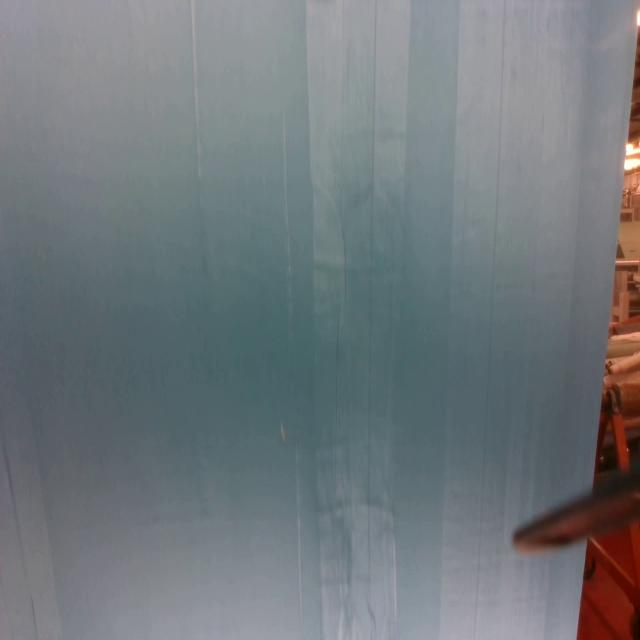crease: (306, 1, 411, 640), (442, 0, 509, 635), (280, 109, 304, 640), (1, 437, 40, 640), (189, 0, 209, 261)
hole: (279, 418, 288, 444)
